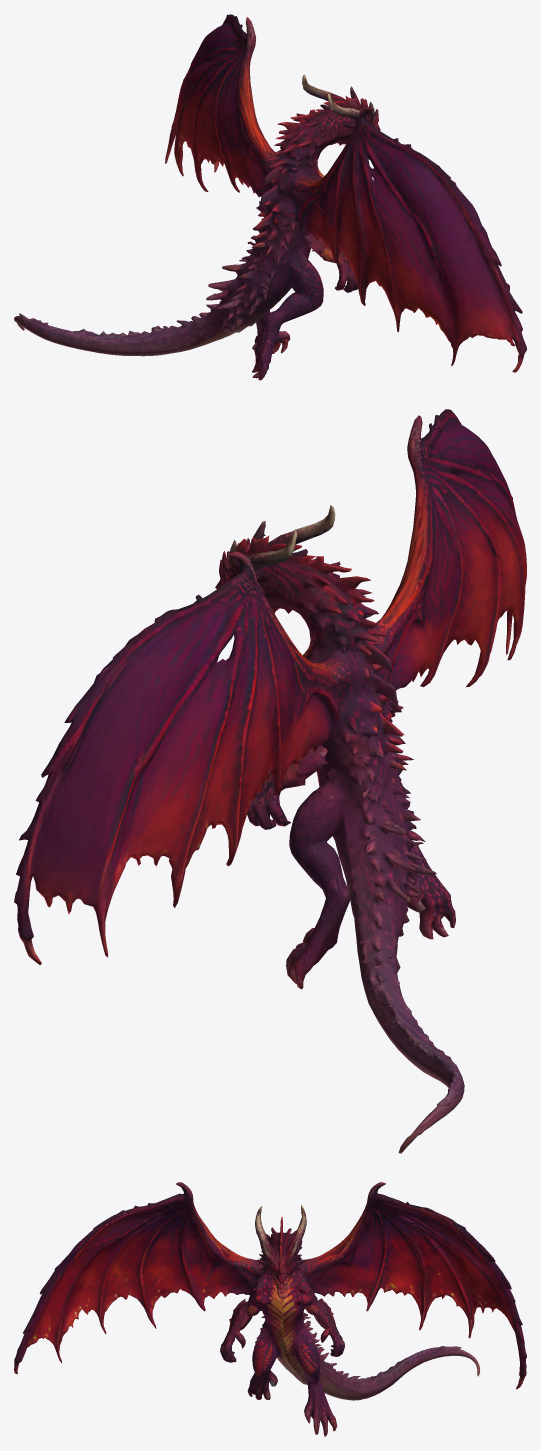
File: dragon.glb
The picture shows the model from 3 angles, top to bottom: view 1: azimuth 30°, elevation 25°; view 2: azimuth 150°, elevation 25°; view 3: azimuth 270°, elevation 25°; orthographic projection. The views are drawn at different scales.
Parts seen in each view (by area): view 1: tripo_node_8c5f87b6-9149-4107-abd5-630134f8c743; view 2: tripo_node_8c5f87b6-9149-4107-abd5-630134f8c743; view 3: tripo_node_8c5f87b6-9149-4107-abd5-630134f8c743.
Part boxes in pixels (x1,y1,x2,y2): tripo_node_8c5f87b6-9149-4107-abd5-630134f8c743: (14, 14, 526, 380); tripo_node_8c5f87b6-9149-4107-abd5-630134f8c743: (14, 409, 526, 1153); tripo_node_8c5f87b6-9149-4107-abd5-630134f8c743: (14, 1182, 526, 1436).
Bounding box in the file's own units: 0.4825 × 0.5642 × 1.
Materials: 1 (1 with a texture image).
